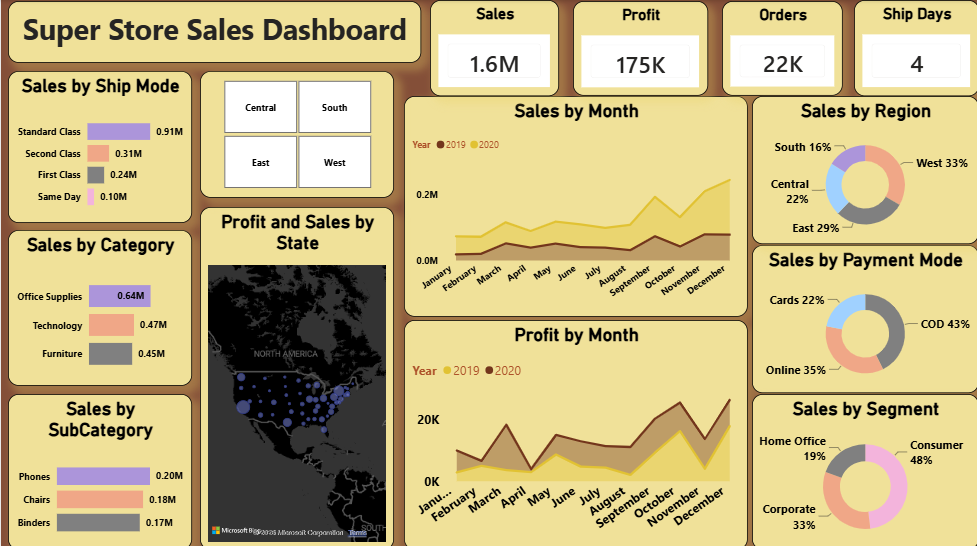

The dashboard page shown, as its layout file describes it:
{"tool":"powerbi","page":{"name":"Dashboard","canvas":[1280,720],"ordinal":0},"visuals":[{"type":"clusteredBarChart","title":"Sales by Category","fields":{"Category":["SuperStore_Sales_Dataset (1).Category"],"Y":["Sum(SuperStore_Sales_Dataset (1).Sales)"]},"box":[9.2,301.1,240.9,204.2],"z":0},{"type":"clusteredBarChart","title":"Sales by SubCategory","fields":{"Category":["SuperStore_Sales_Dataset (1).Sub-Category"],"Y":["Sum(SuperStore_Sales_Dataset (1).Sales)"]},"box":[9.2,515.8,240.9,204.2],"z":1000},{"type":"clusteredBarChart","title":"Sales by Ship Mode","fields":{"Category":["SuperStore_Sales_Dataset (1).Ship Mode"],"Y":["Sum(SuperStore_Sales_Dataset (1).Sales)"]},"box":[9.2,92.9,240.9,199],"z":2000},{"type":"stackedAreaChart","title":"Sales by Month","fields":{"Y":["Sum(SuperStore_Sales_Dataset (1).Sales)"],"Category":["SuperStore_Sales_Dataset (1).Order Date.Variation.Date Hierarchy.Month","SuperStore_Sales_Dataset (1).Order Date.Variation.Date Hierarchy.Day"],"Series":["SuperStore_Sales_Dataset (1).Order Date.Variation.Date Hierarchy.Year"]},"box":[527.6,125.7,450.3,289.3],"z":3000},{"type":"stackedAreaChart","title":"Profit by Month","fields":{"Category":["SuperStore_Sales_Dataset (1).Order Date.Variation.Date Hierarchy.Month","SuperStore_Sales_Dataset (1).Order Date.Variation.Date Hierarchy.Day"],"Series":["SuperStore_Sales_Dataset (1).Order Date.Variation.Date Hierarchy.Year"],"Y":["Sum(SuperStore_Sales_Dataset (1).Profit)"]},"box":[527.6,418.9,450.3,301.1],"z":4000},{"type":"map","title":"Profit and Sales by State","fields":{"Category":["SuperStore_Sales_Dataset (1).State"],"Size":["Sum(SuperStore_Sales_Dataset (1).Sales)"]},"box":[260.5,271,254,449],"z":5000},{"type":"donutChart","title":"Sales by Payment Mode","fields":{"Category":["SuperStore_Sales_Dataset (1).Payment Mode"],"Y":["Sum(SuperStore_Sales_Dataset (1).Sales)"]},"box":[983.5,321.1,296.6,194.4],"z":6000},{"type":"donutChart","title":"Sales by Segment","fields":{"Category":["SuperStore_Sales_Dataset (1).Segment"],"Y":["Sum(SuperStore_Sales_Dataset (1).Sales)"]},"box":[983.5,515.5,296.6,204.5],"z":7000},{"type":"slicer","fields":{"Values":["SuperStore_Sales_Dataset (1).Region"]},"box":[260.5,92.9,254,166.3],"z":8000},{"type":"textbox","box":[9.2,1.3,541.4,80.6],"z":9000},{"type":"cardVisual","title":"Sales","fields":{"Data":["Sum(SuperStore_Sales_Dataset (1).Sales)"]},"box":[561.6,0,168.9,125.7],"z":10000},{"type":"cardVisual","title":"Orders","fields":{"Data":["Sum(SuperStore_Sales_Dataset (1).Quantity)"]},"box":[943.2,1.4,158.4,123.8],"z":11000},{"type":"cardVisual","title":"Profit","fields":{"Data":["Sum(SuperStore_Sales_Dataset (1).Profit)"]},"box":[748.8,1.3,176.7,124.4],"z":12000},{"type":"cardVisual","title":"Ship Days","fields":{"Data":["Avg(SuperStore_Sales_Dataset (1).AvgDelivery)"]},"box":[1116.7,0,163.6,125.7],"z":13000},{"type":"donutChart","title":"Sales by Region","fields":{"Y":["Sum(SuperStore_Sales_Dataset (1).Sales)"],"Category":["SuperStore_Sales_Dataset (1).Region"]},"box":[983.1,125.7,296.6,194.4],"z":14000}]}

Visuals, with their boxes in screenshot pixels (x1, y1, x2, y2), scaled from the page's 1280x720 canvas onto the 977x546 screenshot:
"Sales by Category" clusteredBarChart: BBox(7, 228, 191, 383)
"Sales by SubCategory" clusteredBarChart: BBox(7, 391, 191, 545)
"Sales by Ship Mode" clusteredBarChart: BBox(7, 70, 191, 221)
"Sales by Month" stackedAreaChart: BBox(403, 95, 746, 315)
"Profit by Month" stackedAreaChart: BBox(403, 318, 746, 545)
"Profit and Sales by State" map: BBox(199, 206, 393, 545)
"Sales by Payment Mode" donutChart: BBox(751, 244, 976, 391)
"Sales by Segment" donutChart: BBox(751, 391, 976, 545)
slicer - SuperStore_Sales_Dataset (1).Region: BBox(199, 70, 393, 197)
textbox: BBox(7, 1, 420, 62)
"Sales" cardVisual: BBox(429, 0, 558, 95)
"Orders" cardVisual: BBox(720, 1, 841, 95)
"Profit" cardVisual: BBox(572, 1, 706, 95)
"Ship Days" cardVisual: BBox(852, 0, 976, 95)
"Sales by Region" donutChart: BBox(750, 95, 976, 243)
